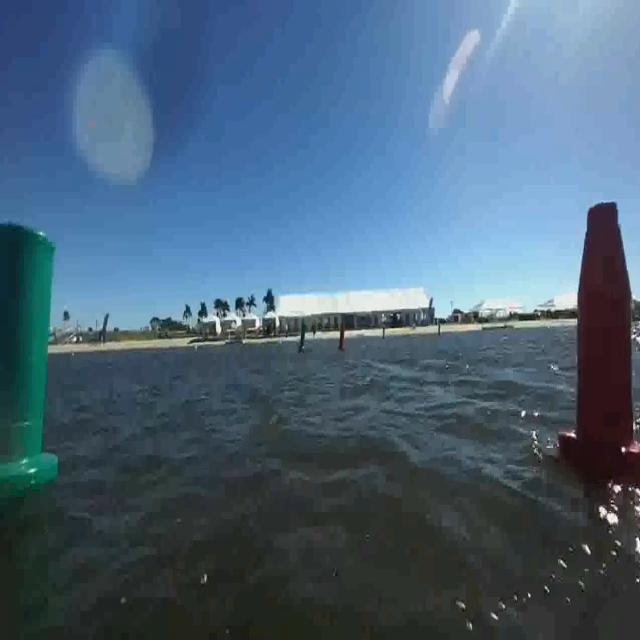green-column-buoy: (1, 223, 58, 490), (296, 318, 308, 353)
red-column-buoy: (558, 200, 640, 476), (338, 324, 348, 353)
